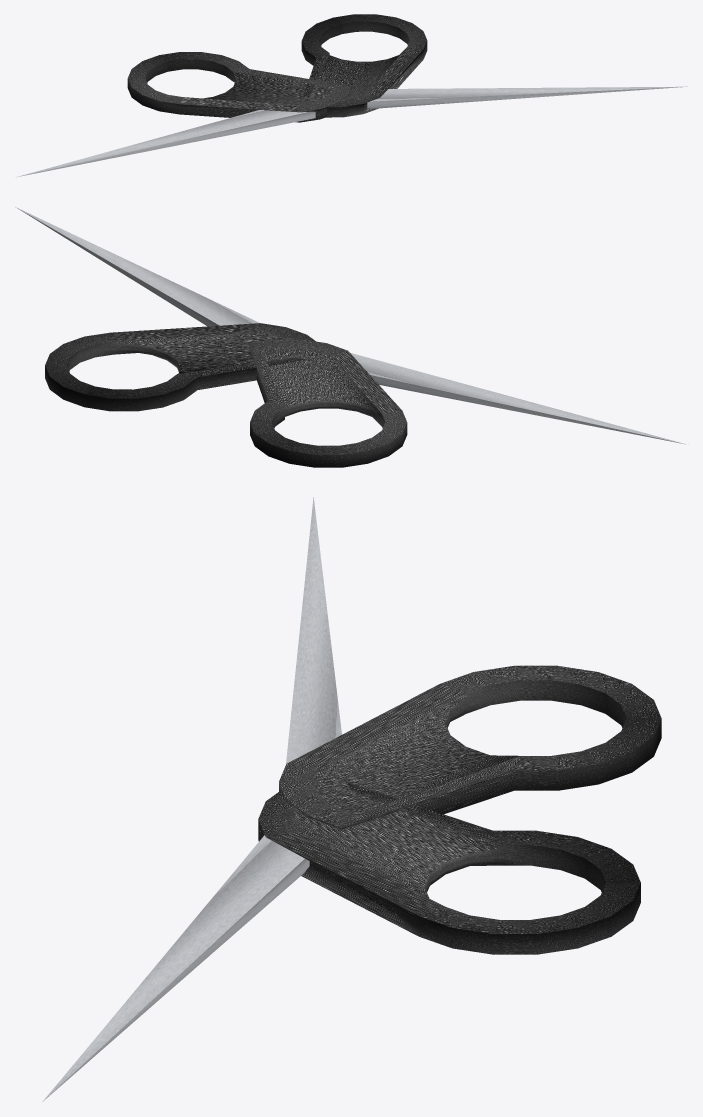
Rendered from scissors.FBX.
The picture shows the model from 3 angles, top to bottom: view 1: azimuth 30°, elevation 25°; view 2: azimuth 150°, elevation 25°; view 3: azimuth 270°, elevation 25°; orthographic projection. The views are drawn at different scales.
Parts seen in each view (by area): view 1: Tube001, Tube002, Pyramid002, Pyramid001; view 2: Tube001, Tube002, Pyramid002, Pyramid001; view 3: Tube001, Tube002, Pyramid001, Pyramid002.
Boxes of the visible parts, x1=… form: Tube001: x1=127, y1=52, x2=351, y2=122; Tube002: x1=301, y1=14, x2=427, y2=117; Pyramid002: x1=16, y1=110, x2=315, y2=177; Pyramid001: x1=367, y1=86, x2=687, y2=108; Tube001: x1=248, y1=339, x2=407, y2=467; Tube002: x1=45, y1=323, x2=315, y2=411; Pyramid002: x1=350, y1=352, x2=686, y2=444; Pyramid001: x1=15, y1=207, x2=259, y2=326; Tube001: x1=279, y1=665, x2=661, y2=829; Tube002: x1=258, y1=782, x2=640, y2=954; Pyramid001: x1=42, y1=835, x2=309, y2=1101; Pyramid002: x1=286, y1=497, x2=341, y2=763.
Size of the model in its own units: 60.68 by 1.07 by 26.84.
2 materials, 2 textured.
